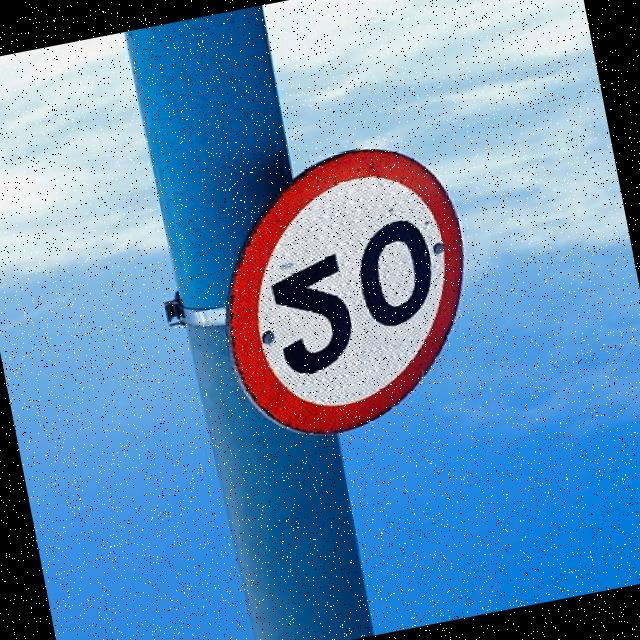speed_limit_20: (190, 112, 545, 475)
